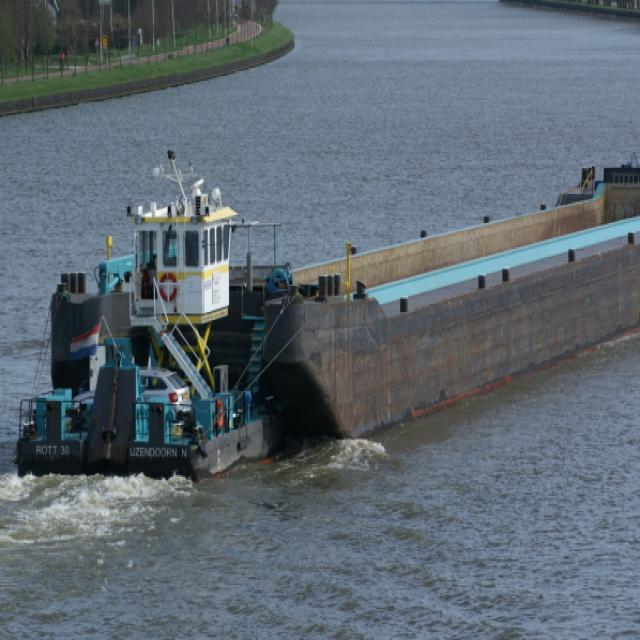tugboat: (12, 150, 301, 497)
